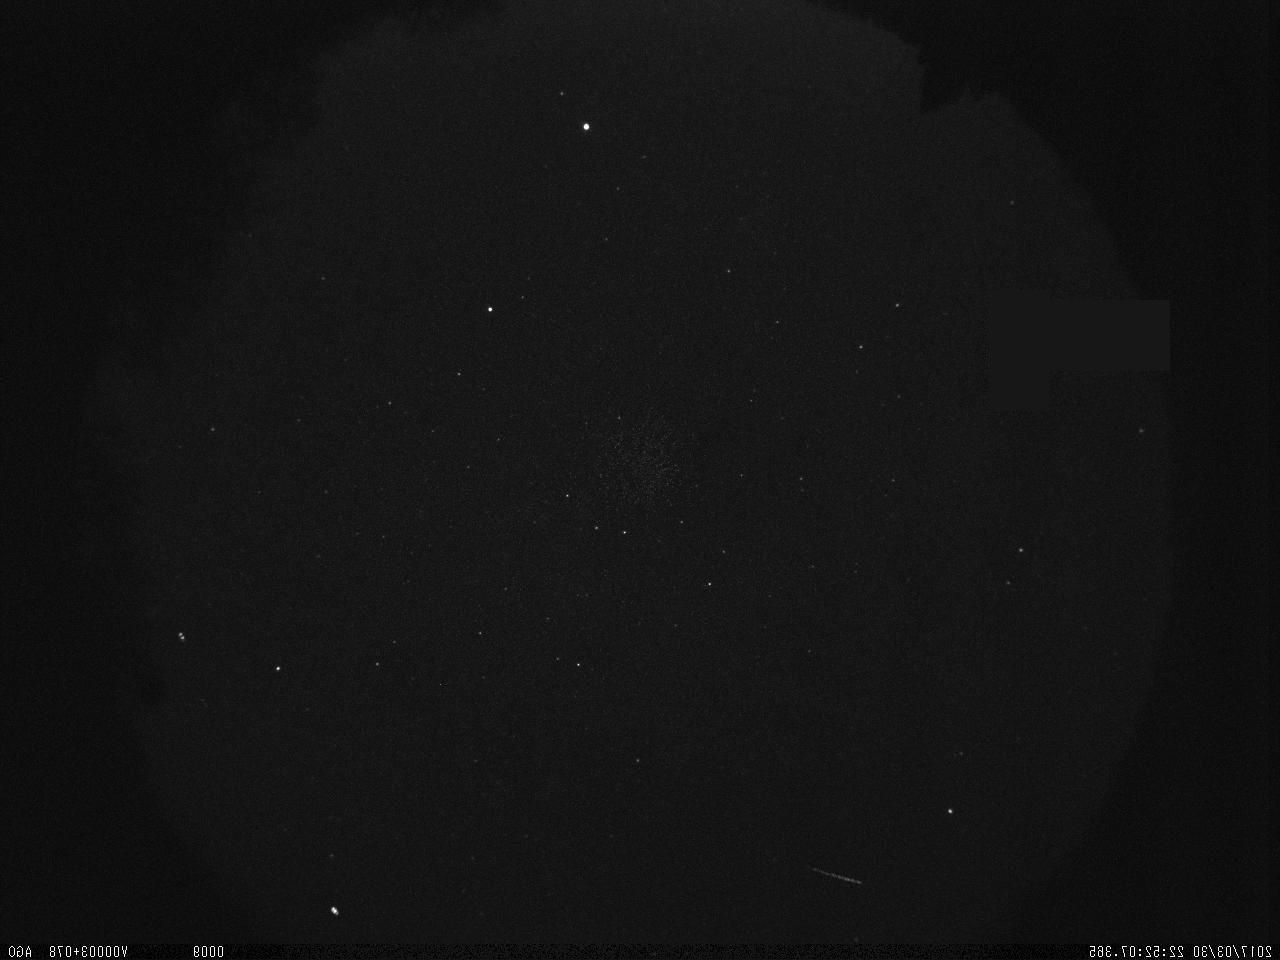meteor: (795, 853, 869, 897)
